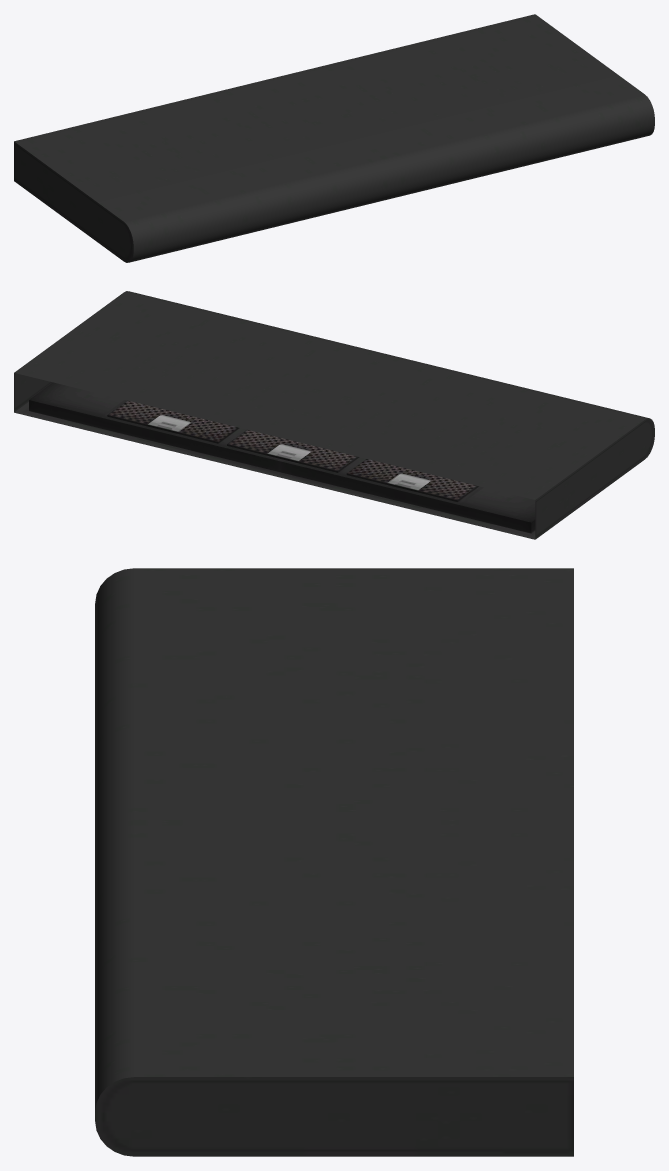
Rendered from p6_oven_hood_lod0.glb.
The picture shows the model from 3 angles, top to bottom: view 1: azimuth 30°, elevation 25°; view 2: azimuth 150°, elevation 25°; view 3: azimuth 270°, elevation 25°; orthographic projection. The views are drawn at different scales.
Visible parts, largest first — view 1: surf0; view 2: surf0; view 3: surf0.
Part boxes in pixels (bbox=[...]): surf0: bbox=[14, 14, 654, 262]; surf0: bbox=[14, 291, 654, 539]; surf0: bbox=[95, 568, 573, 1156].
Bounding box in the file's own units: 80.46 × 5.87 × 32.
